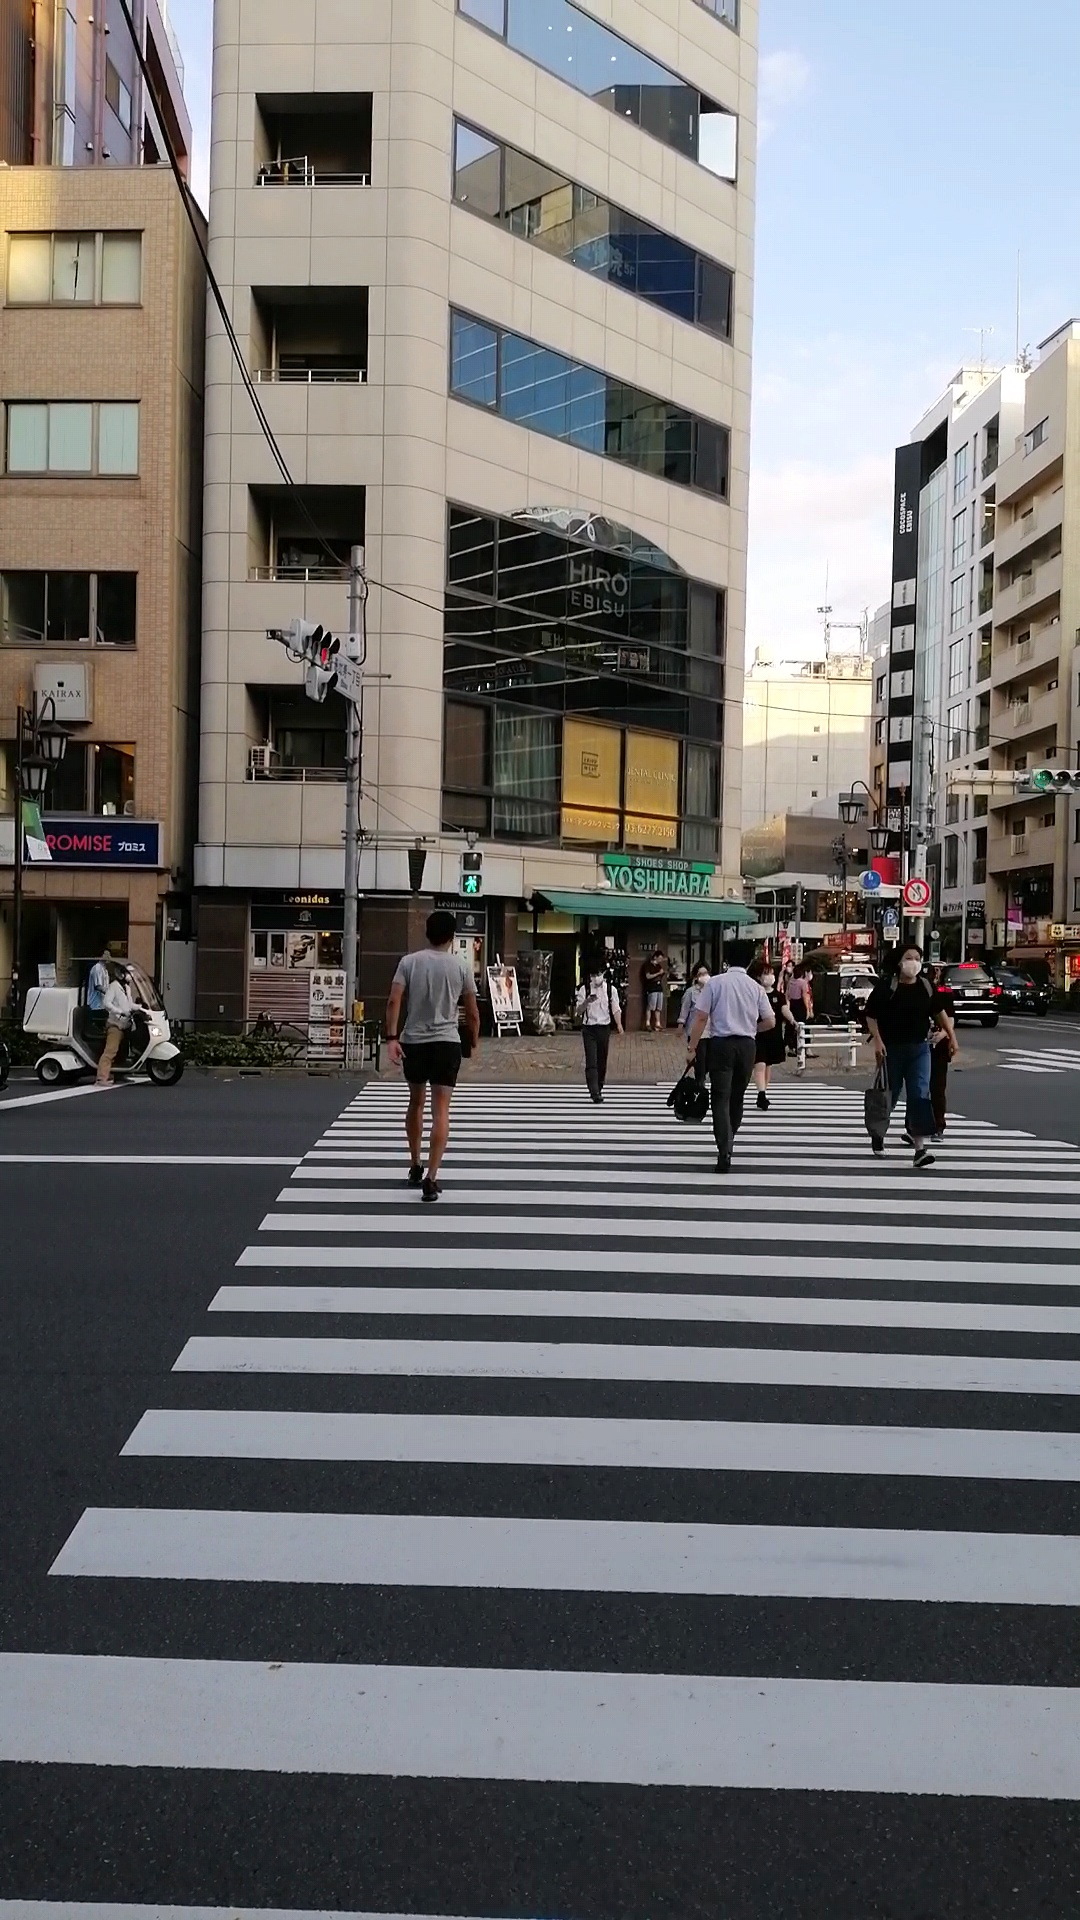green: (459, 849, 483, 897)
